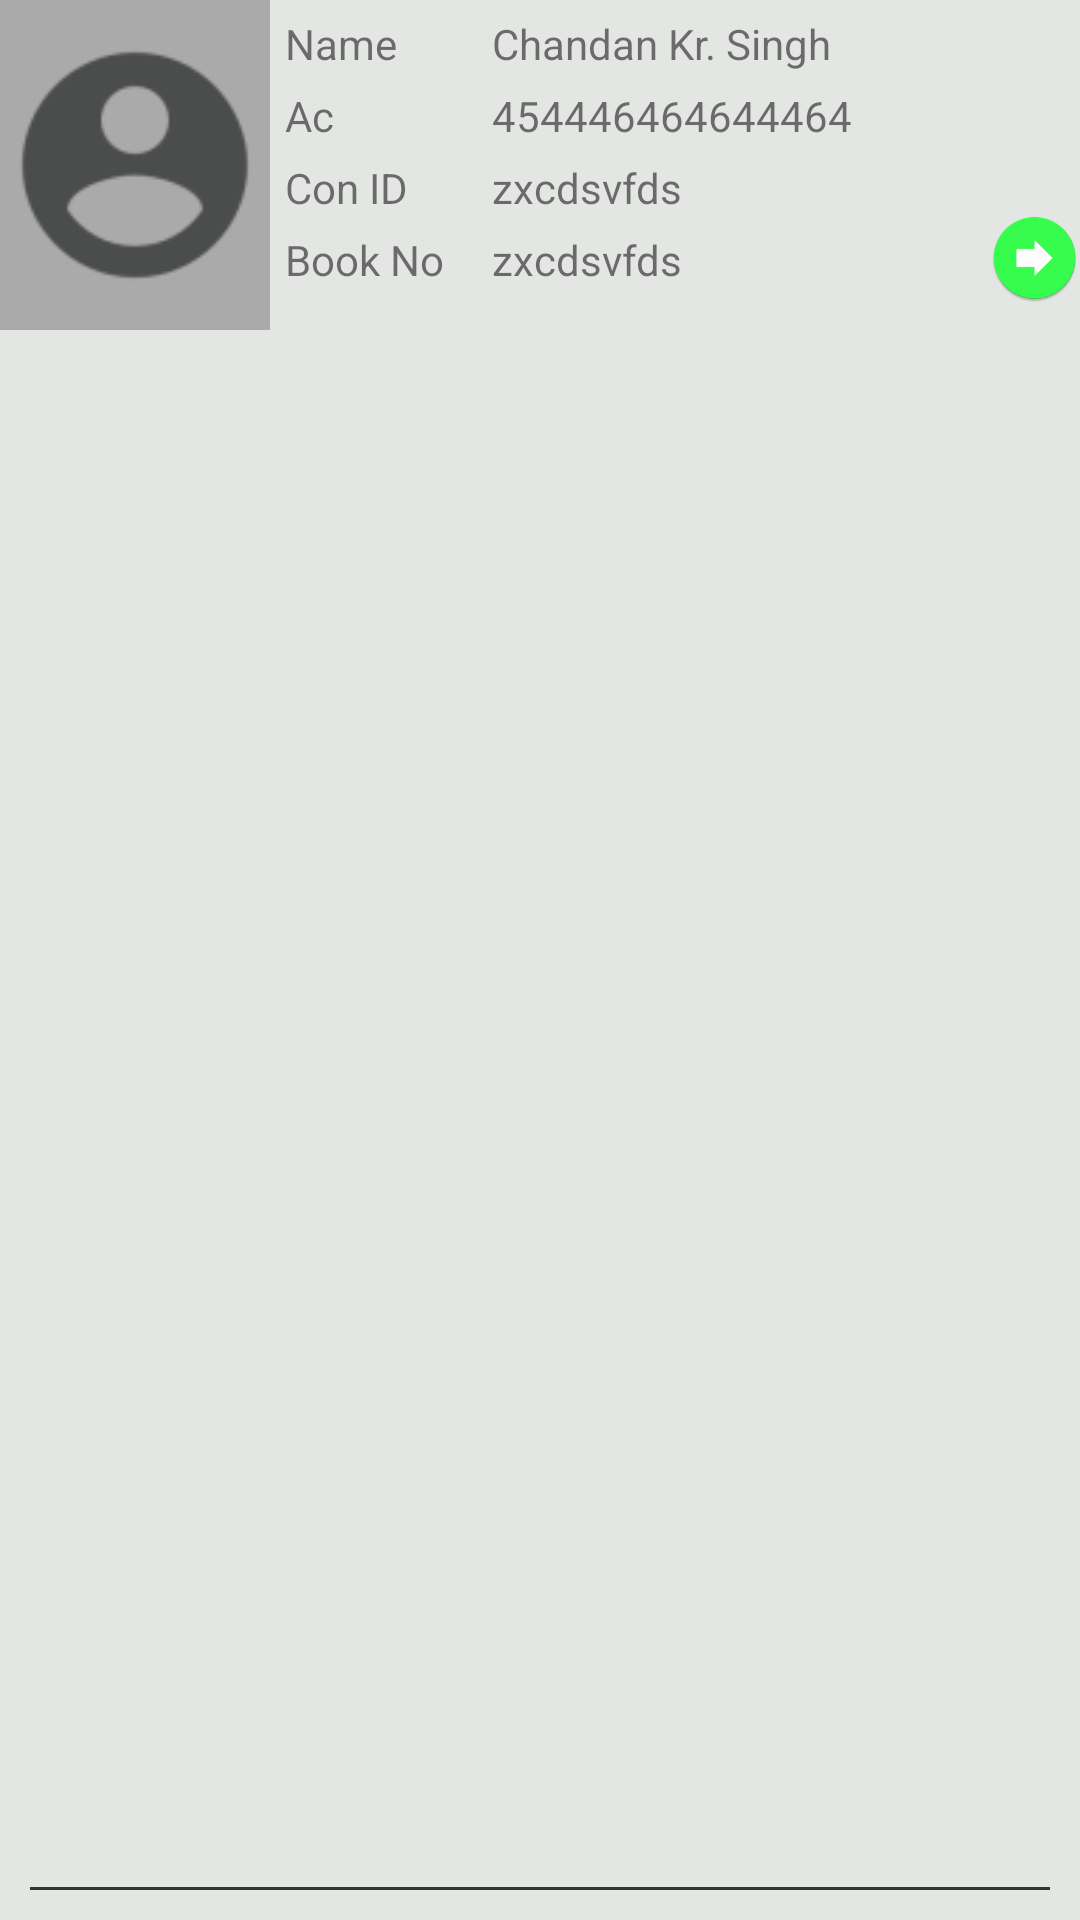

Screen size 1080w x 1920h. Icon name, then its center in pixels as (x=x, y=y):
forward: (x=1034, y=259)
user: (x=135, y=165)
